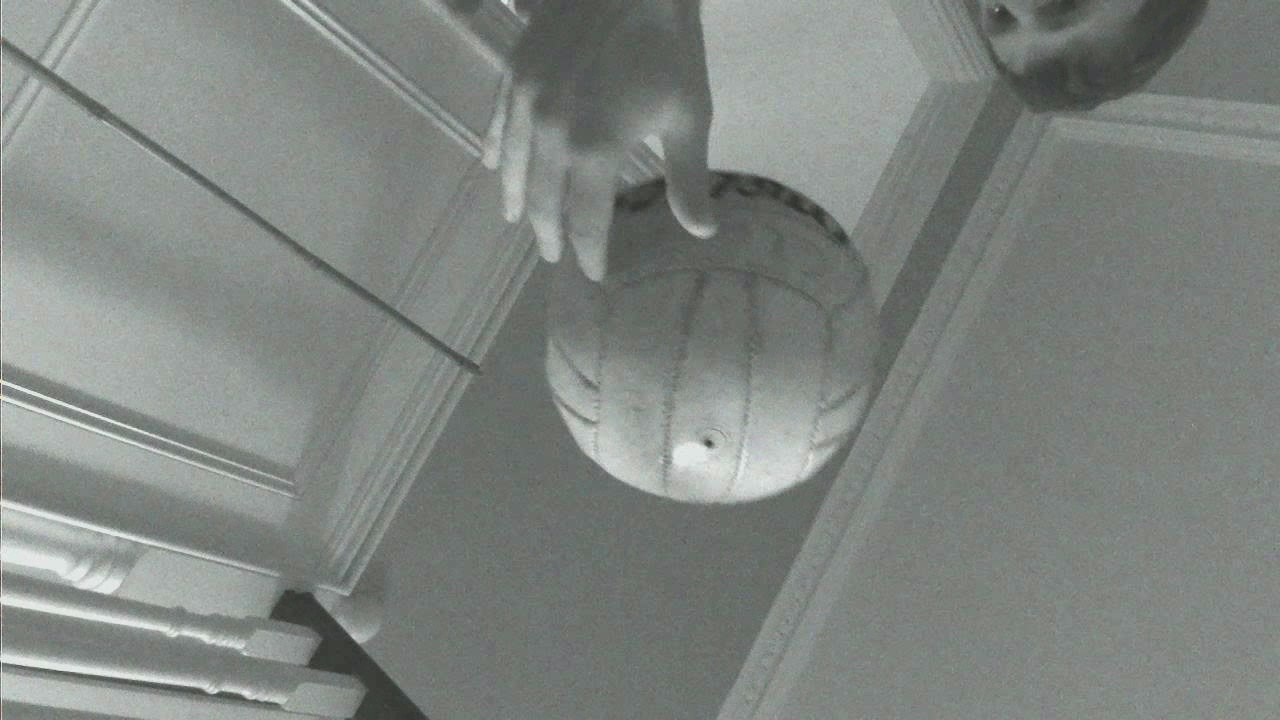Football-Spotter: (546, 174, 878, 503)
